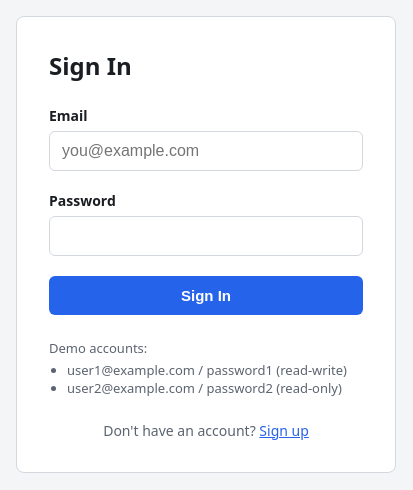
Test: MfaPage › shows which account is being verified
Type "user1@example.com" into the field labelled "Email" at (206, 150), box [49,130,363,170]
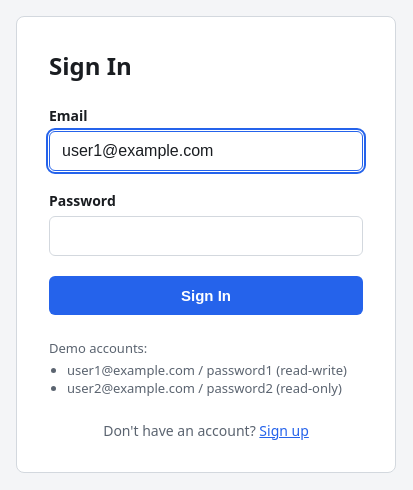
Type "password1" into the password field labelled "Password" at (206, 236), box [49,216,363,256]
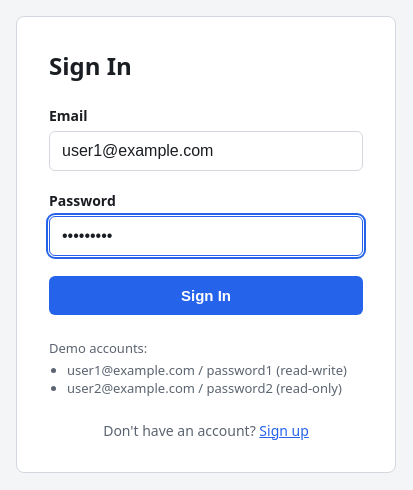
Click the button "Sign In" at (206, 295), box [49,276,363,314]
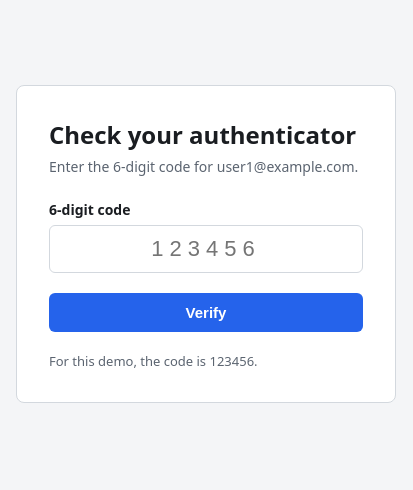
Now the heading "Check your authenticator" is shown, box [49,118,363,151]
